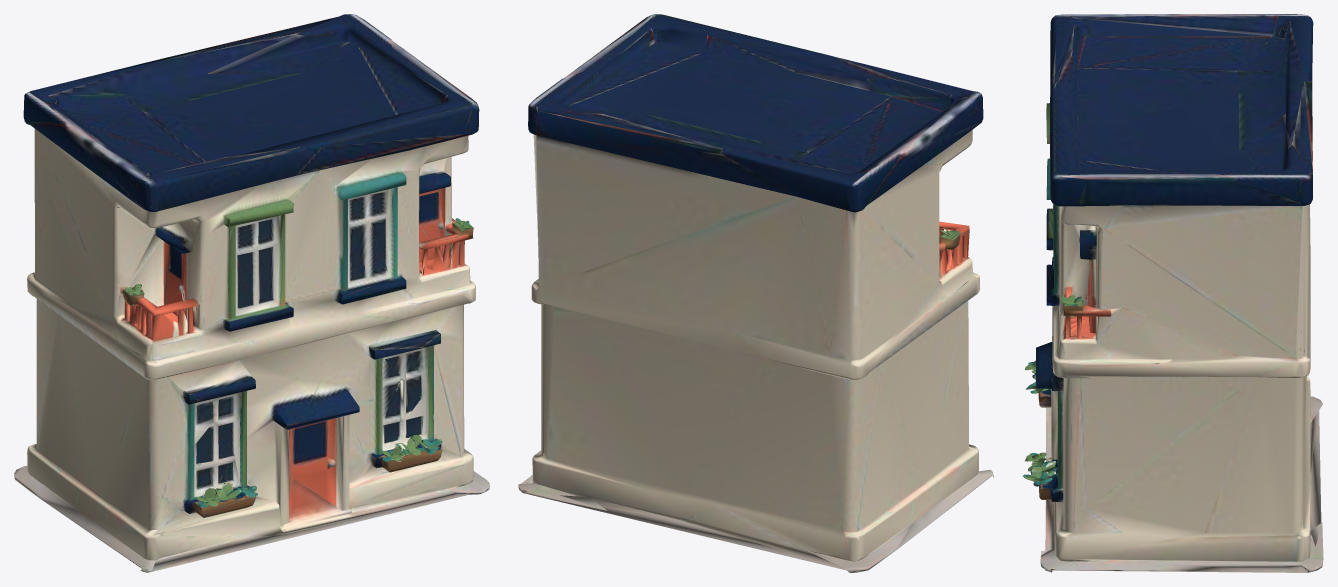
File: apartment-block-512.glb
3 renders of one model, left to right at view 1: azimuth 30°, elevation 25°; view 2: azimuth 150°, elevation 25°; view 3: azimuth 270°, elevation 25°, orthographic.
Bounding box in the file's own units: 1.81 × 1.9 × 1.33.
1 material, 1 textured.
